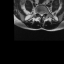CCS_severe_stenosis: (40, 11, 42, 17)
LFS_stenosis: (43, 10, 45, 15)
LLS_normal: (42, 11, 43, 16)
RFS_stenosis: (38, 10, 39, 15)
RLS_normal: (39, 11, 41, 16)
